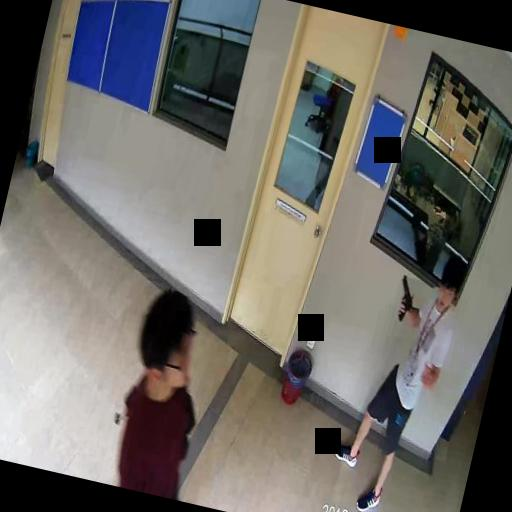Handgun: (392, 274, 418, 322)
